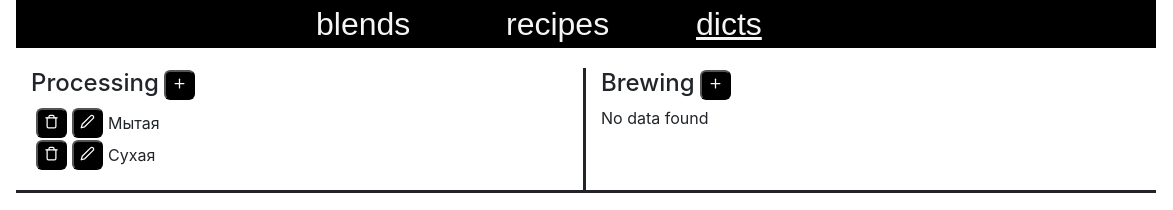
it: dictionaries page spec › dictionary edit and delete value spec › should edit an existing value
Click the button without text next to "Brewing" at (716, 85), box top-left (700, 70), bottom-right (731, 100)
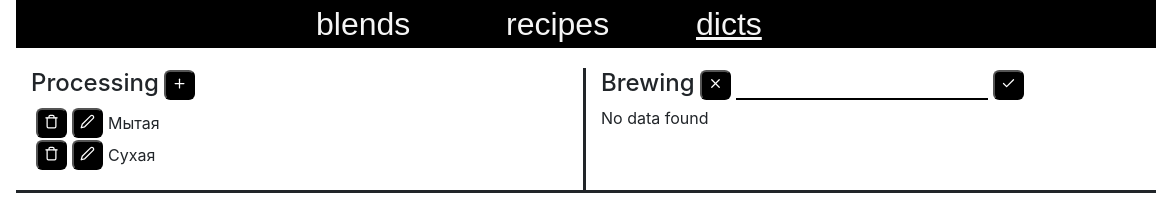
Type "brewing_type" into the field at (862, 86), box top-left (736, 72), bottom-right (988, 100)
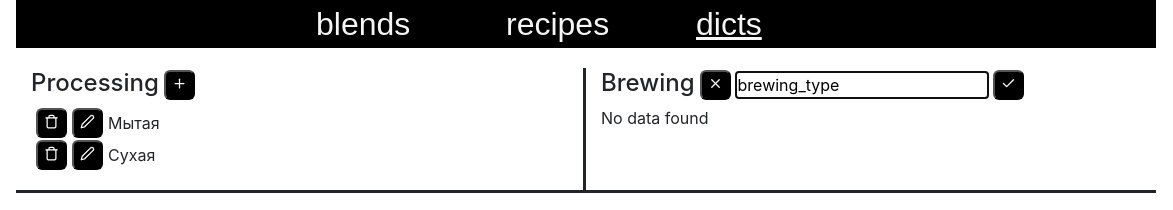
Click the button with test id "button_submit" at (1009, 85), box top-left (993, 70), bottom-right (1024, 100)
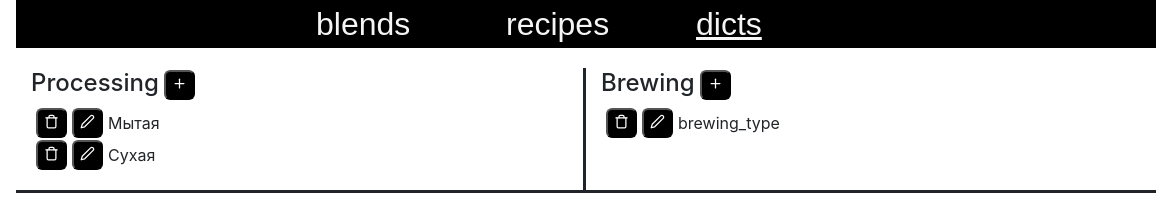
Click the 2nd button with test id "edit_btn" at (658, 123), box top-left (642, 108), bottom-right (673, 138)
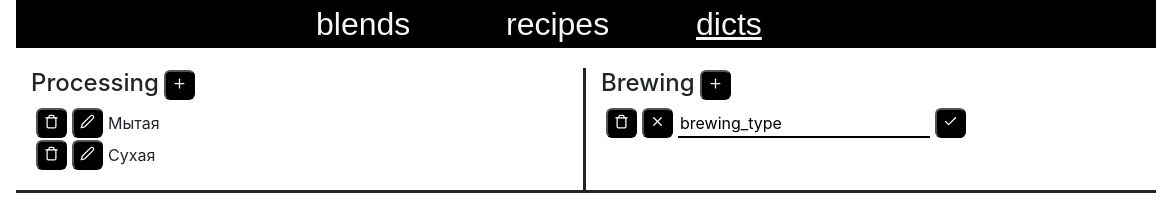
Expected: the field holds "brewing_type"
Replace the text in the field with "new_type" at (804, 124), box top-left (678, 110), bottom-right (930, 138)
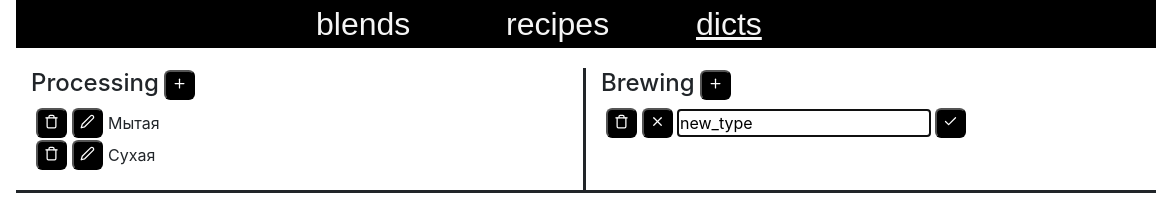
Click the button with test id "button_submit" at (951, 123), box top-left (935, 108), bottom-right (966, 138)
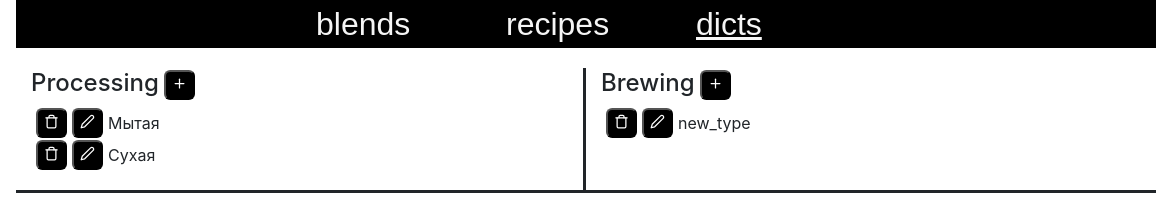
Expected: the text "new_type" is shown, top-left (678, 113), bottom-right (750, 133)
Expected: the field is gone
Expected: the button with test id "button_submit" is gone
